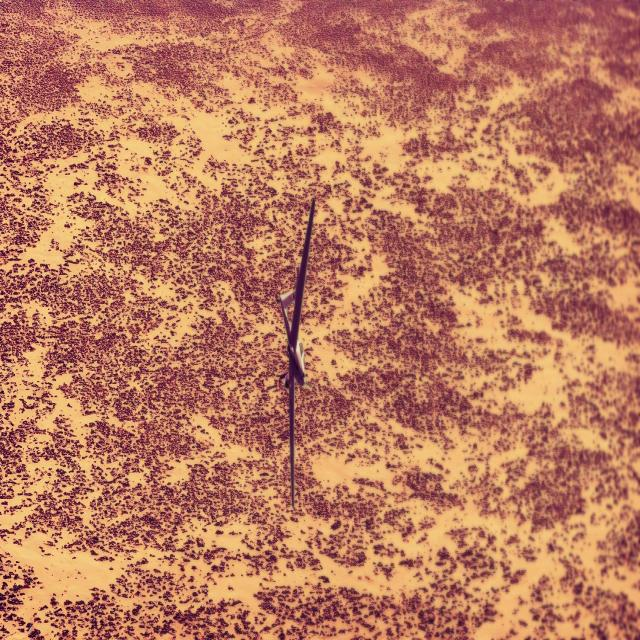airplane: (279, 197, 315, 508)
